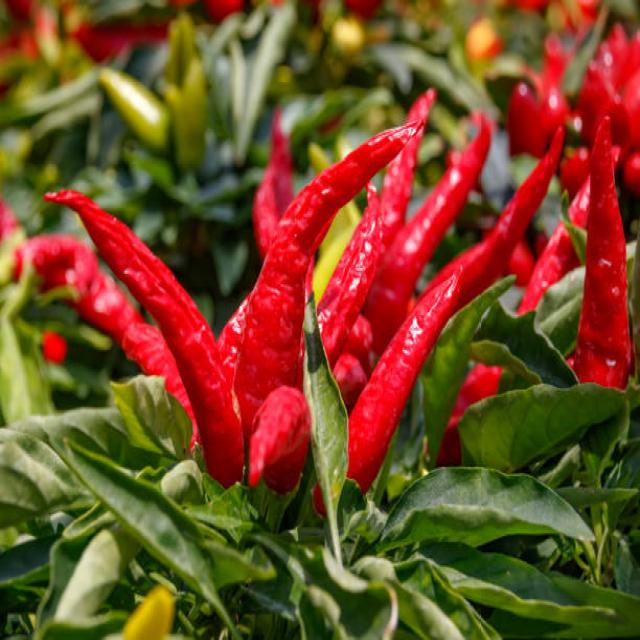Ripe: (348, 139, 561, 491), (45, 190, 243, 486), (233, 130, 408, 436), (574, 116, 631, 388), (318, 186, 381, 363), (243, 379, 311, 524)
